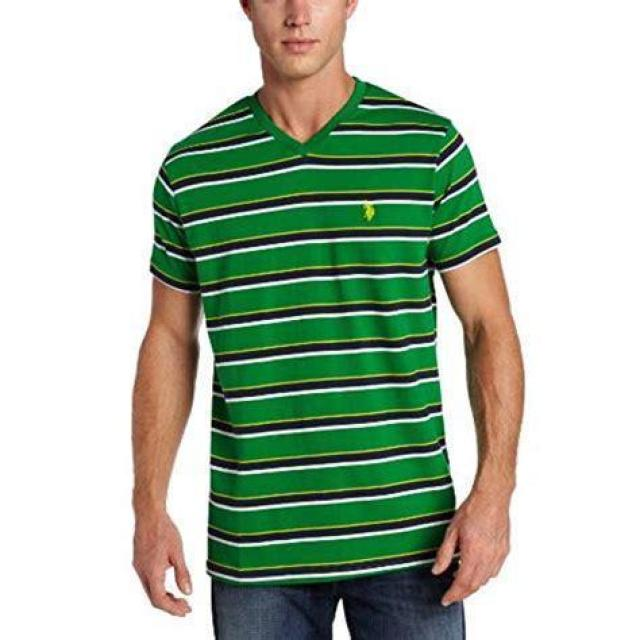Tshirt: (151, 74, 498, 585)
